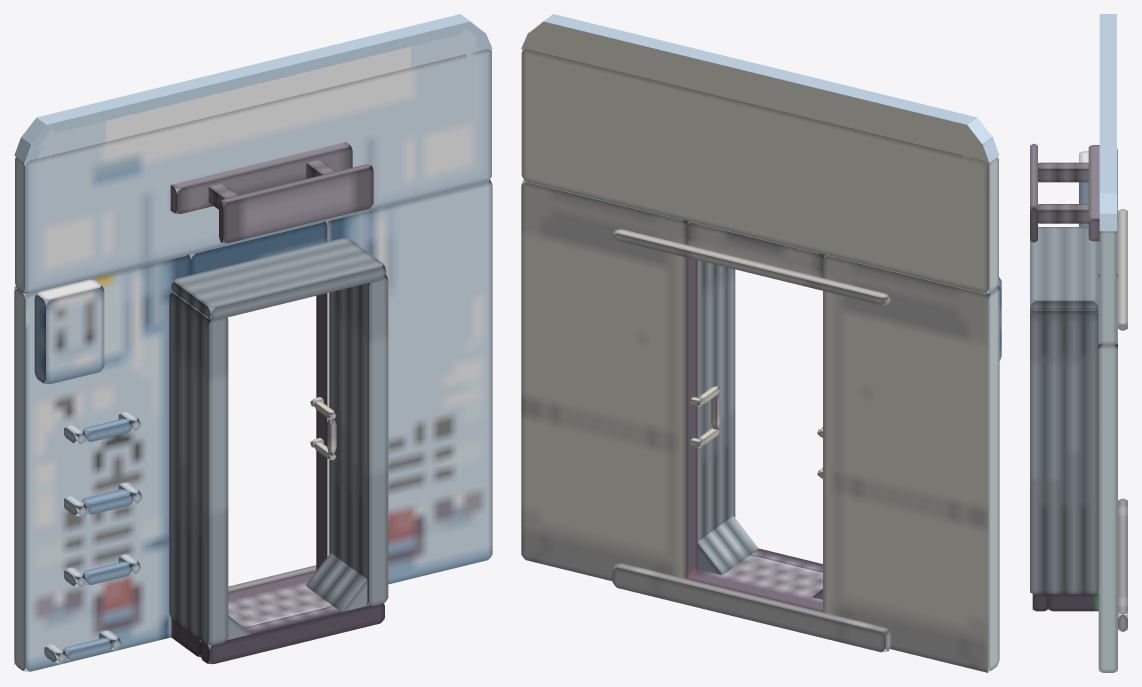
The model's file is end_face_original_25t_2.obj.
The picture shows the model from 3 angles, left to right: view 1: azimuth 30°, elevation 25°; view 2: azimuth 150°, elevation 25°; view 3: azimuth 270°, elevation 25°; orthographic projection. The views are drawn at different scales.
Visible parts, largest first — view 1: cube; view 2: cube; view 3: cube.
Part boxes in pixels (x1=…): cube: x1=14, y1=14, x2=492, y2=671; cube: x1=521, y1=14, x2=1001, y2=672; cube: x1=1030, y1=14, x2=1127, y2=672.
Bounding box in the file's own units: 3 × 3.32 × 0.625.
